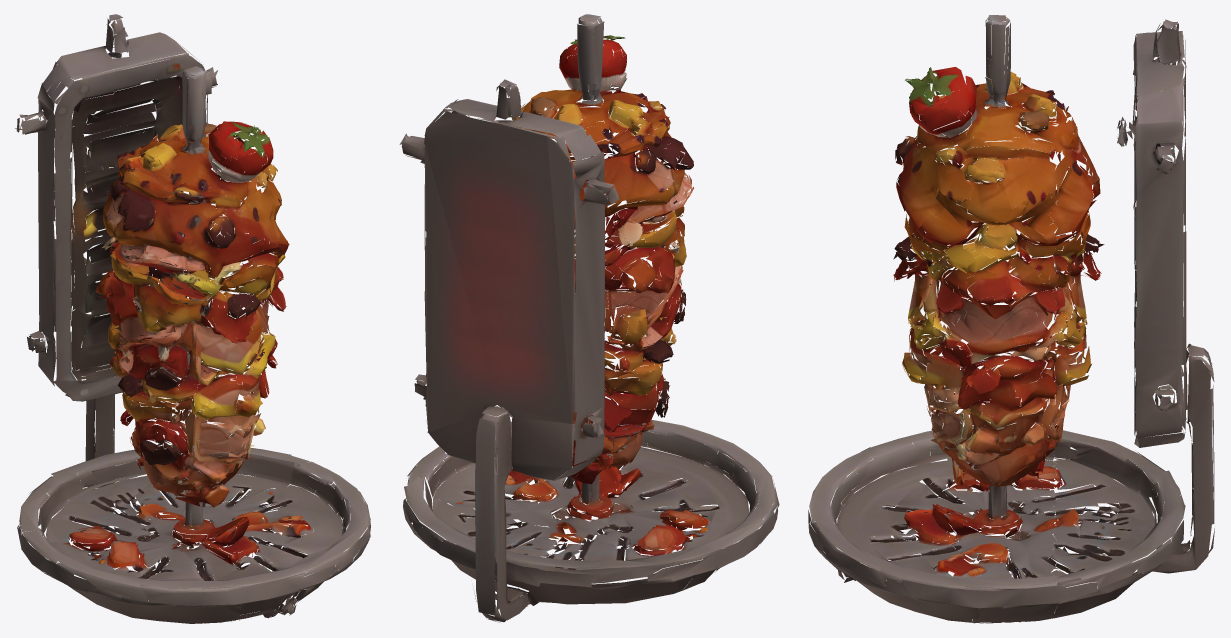
File: g67_pz_shawarma_spit.glb
3 views of the same model, side by side, from view 1: azimuth 30°, elevation 25°; view 2: azimuth 150°, elevation 25°; view 3: azimuth 270°, elevation 25° (orthographic). The views are drawn at different scales.
Parts seen in each view (by area): view 1: spit, grill; view 2: grill, spit; view 3: spit, grill.
Boxes of the visible parts, x1,y1,x2,y2 form: spit: [21, 66, 370, 623]; grill: [15, 14, 309, 547]; grill: [399, 79, 716, 622]; spit: [407, 14, 779, 592]; spit: [808, 15, 1058, 623]; grill: [1050, 19, 1214, 618].
Size of the model in its own units: 61.93 by 98.05 by 64.76.
Materials: 1 (1 with a texture image).
